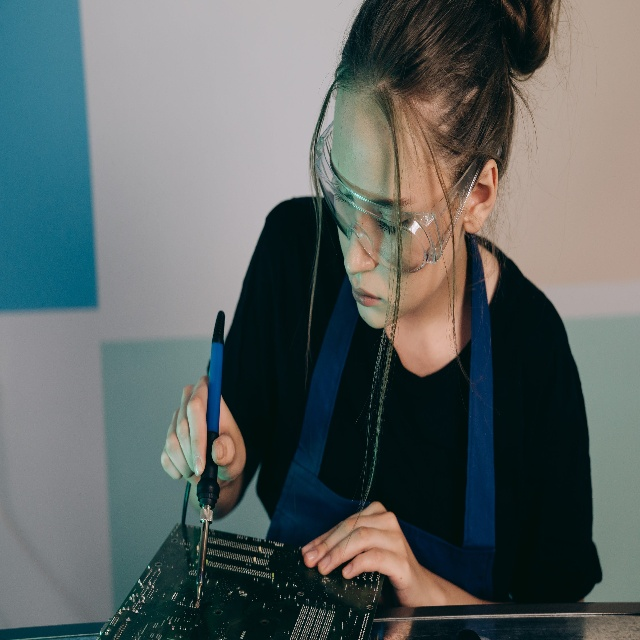Gafas: (310, 127, 477, 277)
Sin_guantes: (299, 501, 418, 601), (158, 375, 247, 494)
